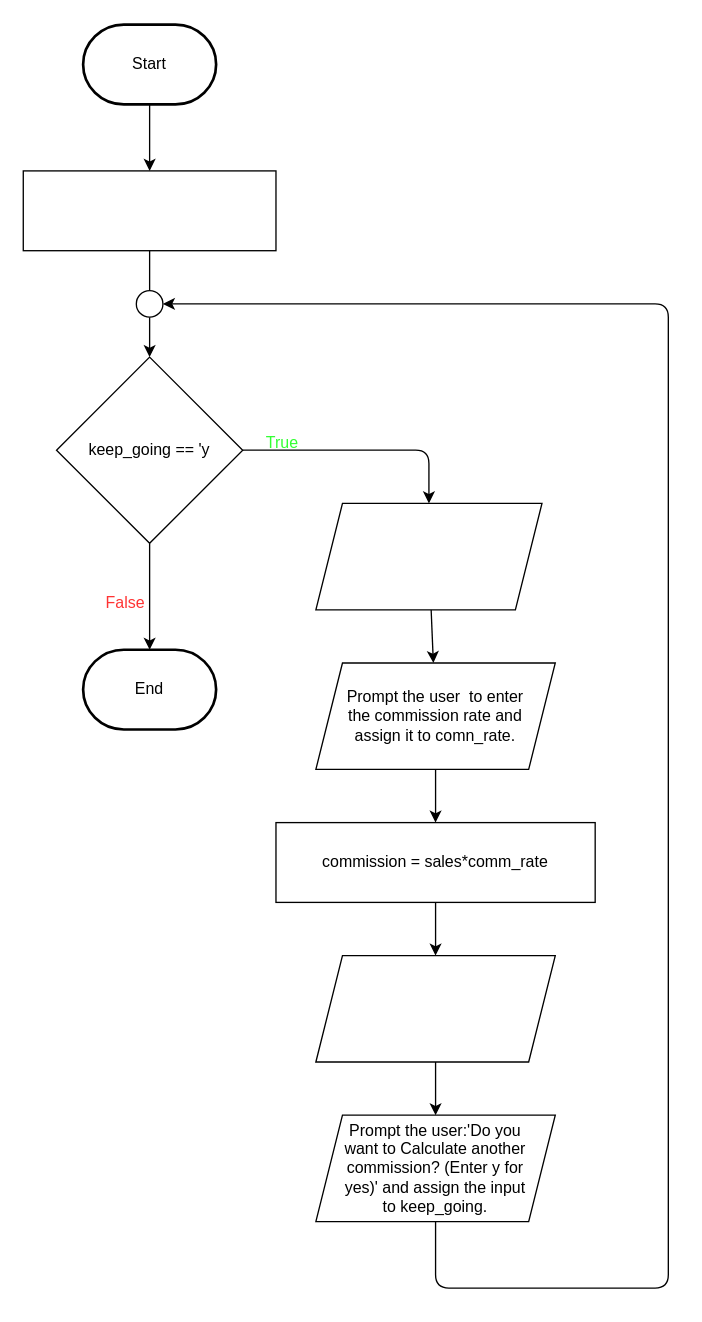
Some shapes in this 702 by 1322 pixel diagram are drawn without their labels. Here are the shapes that lost their labels. From the top down, the box of each, then its label:
(22, 170, 276, 251): Assign 'y to keep_going
(315, 502, 542, 610): Prompt the user to enter the amount of sales and assign it to sales.
(315, 954, 555, 1062): Display the commission
